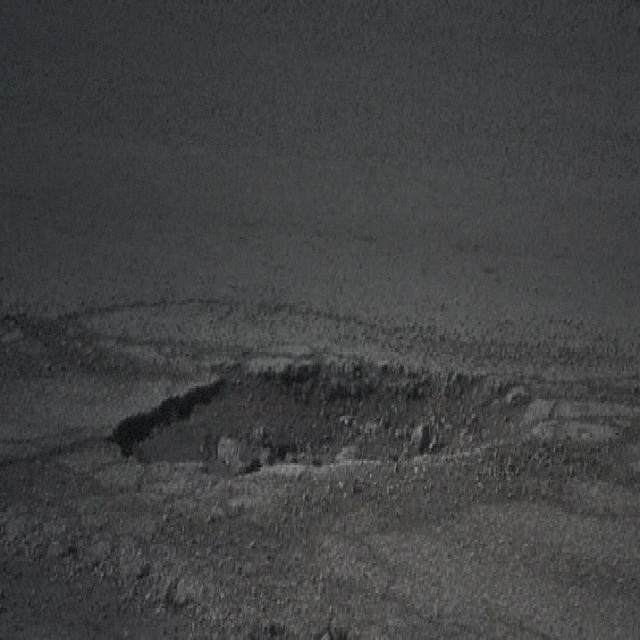pothole: (106, 339, 532, 478)
